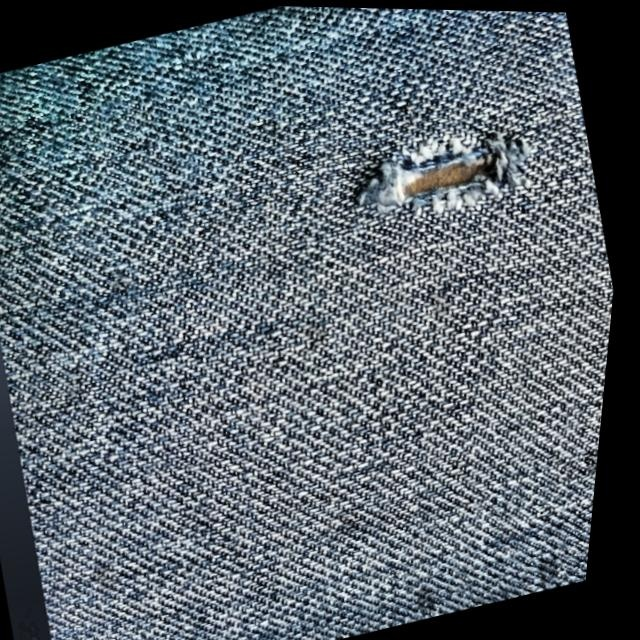Hole: (294, 51, 591, 296)
